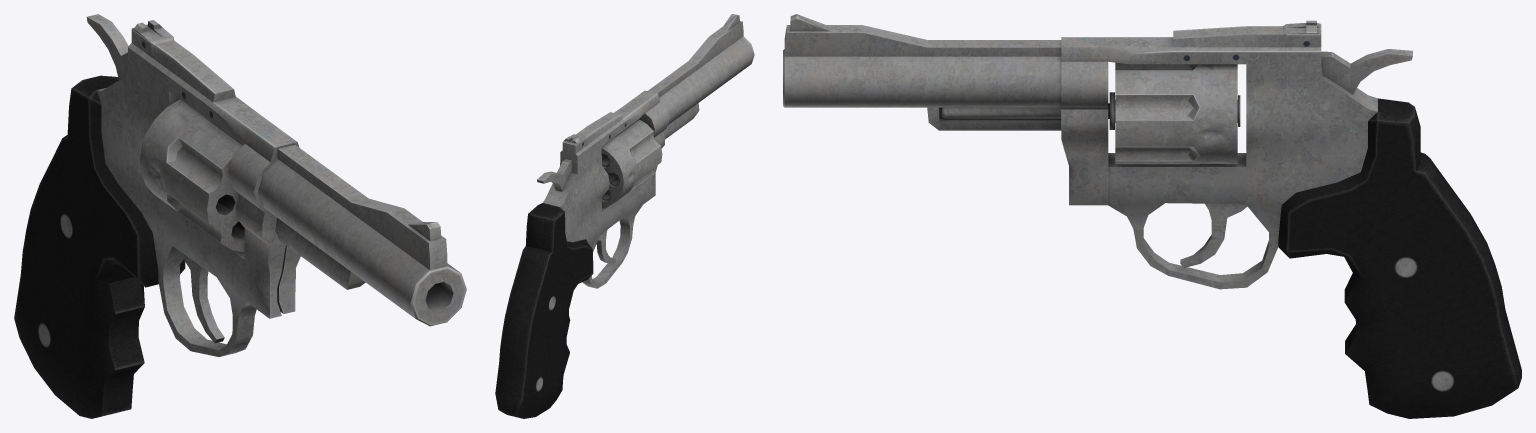
Rendered from revolver.fbx.
3 views of the same model, side by side, from view 1: azimuth 30°, elevation 25°; view 2: azimuth 150°, elevation 25°; view 3: azimuth 270°, elevation 25° (orthographic). The views are drawn at different scales.
Visible parts, largest first — view 1: Body, Cilinder, Trigger, Locker, Loader Base; view 2: Body, Cilinder, Locker, Trigger; view 3: Body, Cilinder, Loader Base, Locker, Cylinder, Trigger.
Boxes of the visible parts, x1=… form: Body: x1=14, y1=20, x2=466, y2=418; Cilinder: x1=139, y1=99, x2=244, y2=252; Trigger: x1=180, y1=252, x2=224, y2=343; Locker: x1=86, y1=14, x2=128, y2=80; Loader Base: x1=277, y1=245, x2=300, y2=313; Body: x1=495, y1=14, x2=754, y2=418; Cilinder: x1=601, y1=119, x2=662, y2=206; Locker: x1=537, y1=159, x2=572, y2=191; Trigger: x1=596, y1=230, x2=615, y2=263; Body: x1=783, y1=14, x2=1521, y2=418; Cilinder: x1=1115, y1=62, x2=1237, y2=164; Loader Base: x1=1061, y1=108, x2=1108, y2=205; Locker: x1=1321, y1=49, x2=1412, y2=94; Cylinder: x1=941, y1=92, x2=1240, y2=129; Trigger: x1=1180, y1=203, x2=1247, y2=267.
Size of the model in its own units: 136 by 555 by 939.
